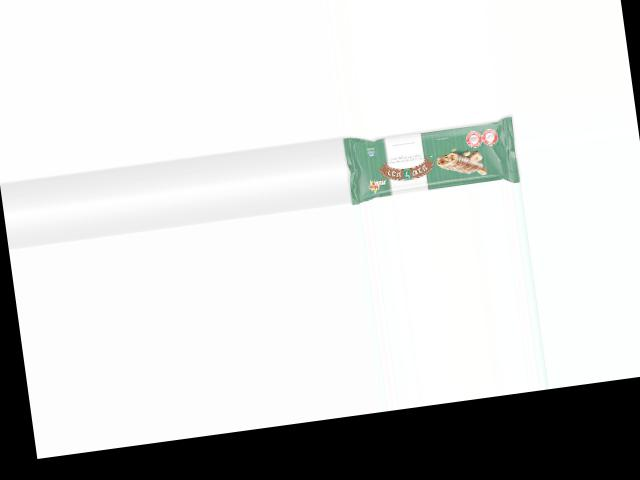chocolate: (339, 111, 521, 205)
